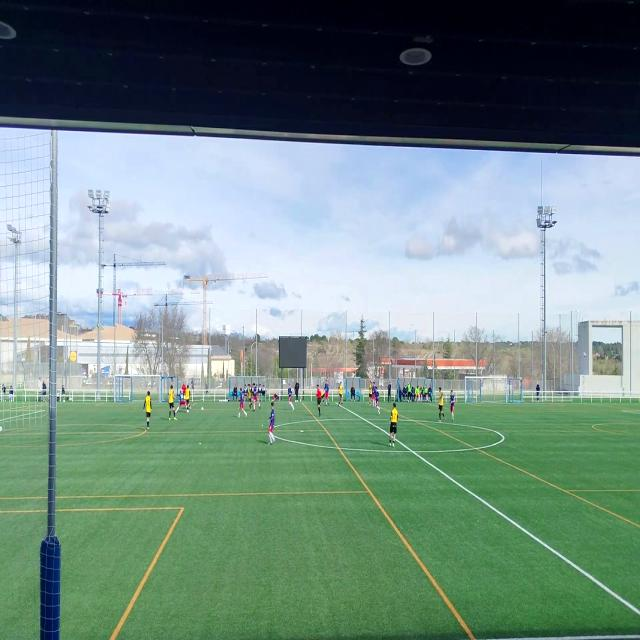bigarea_top_inner: (42, 404, 48, 416), (621, 405, 625, 417)
halfcircle_bottom: (408, 445, 418, 458)
halfcircle_top: (360, 416, 367, 421)
midline_top_intersection: (334, 399, 338, 407)
